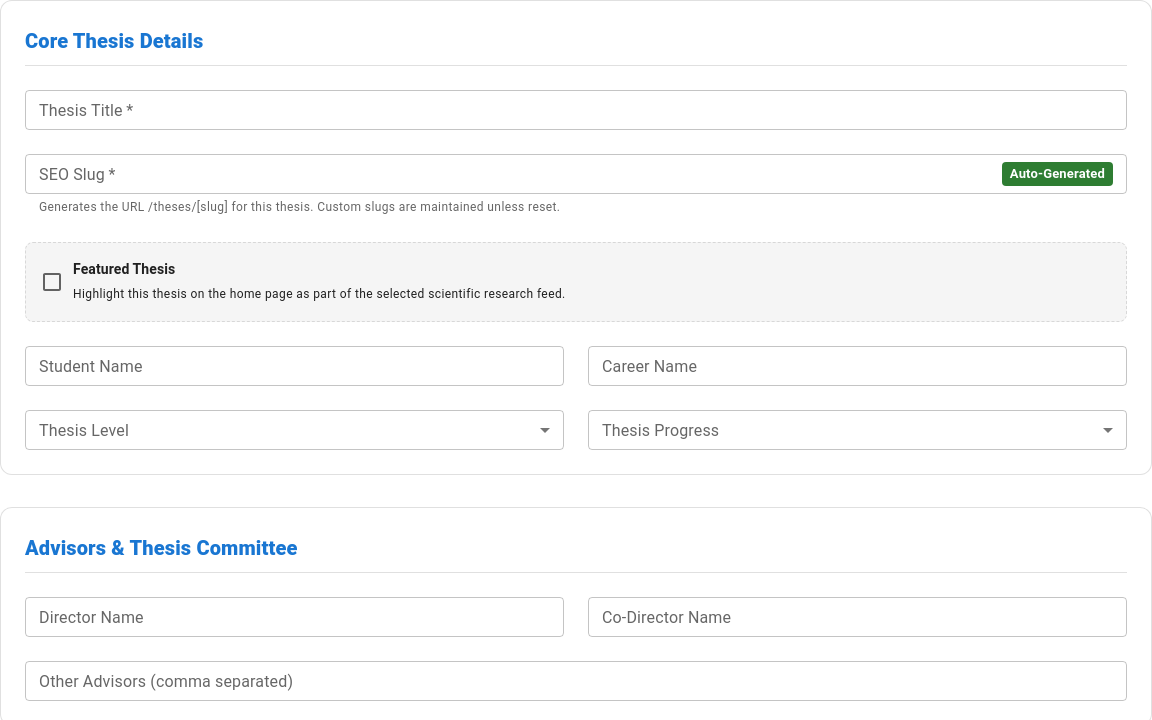
Test: ThesisForm Component › automatically generates slug from Title changes
The width and height of the screenshot is (1152, 720).
In the field labelled "Thesis Title *": coordinates (576, 110) [25, 90, 1127, 130], type "New Thesis Title"
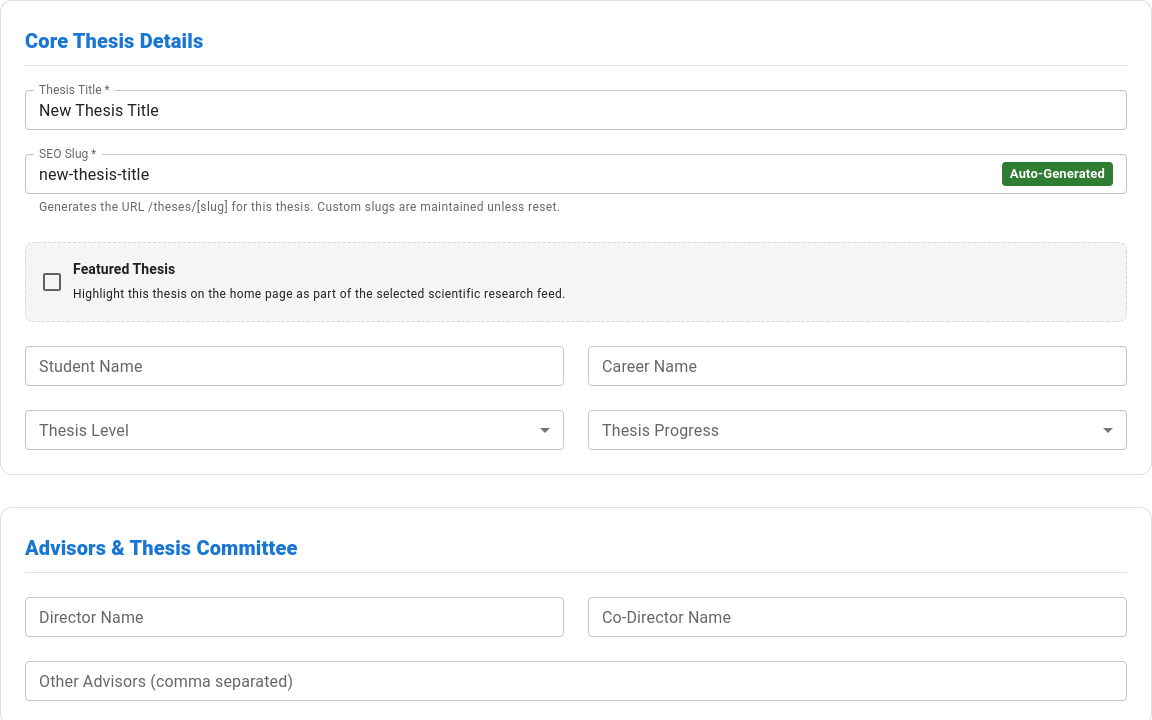
Expected: the field labelled "SEO Slug *" holds "new-thesis-title", [25, 154, 994, 194]
